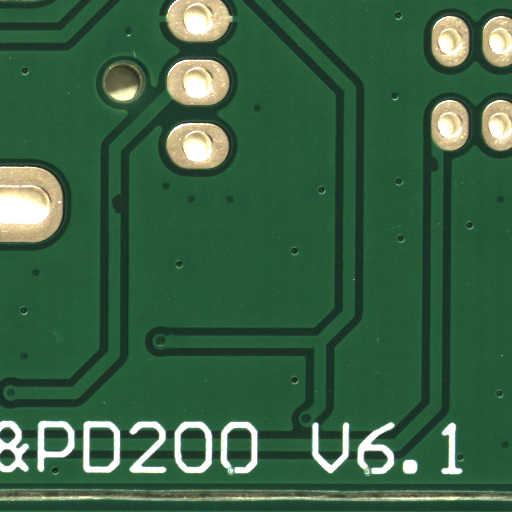Mouse_bite: (117, 203, 126, 222), (434, 164, 443, 181)
